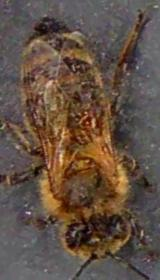varroa_mite: (70, 108, 104, 133)
